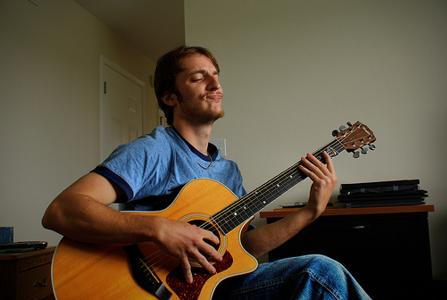person: (41, 46, 373, 300)
